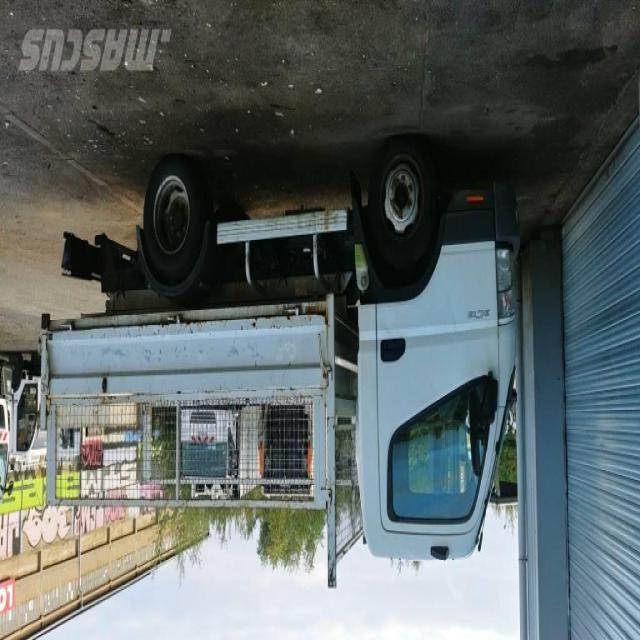truck: (38, 137, 524, 588)
